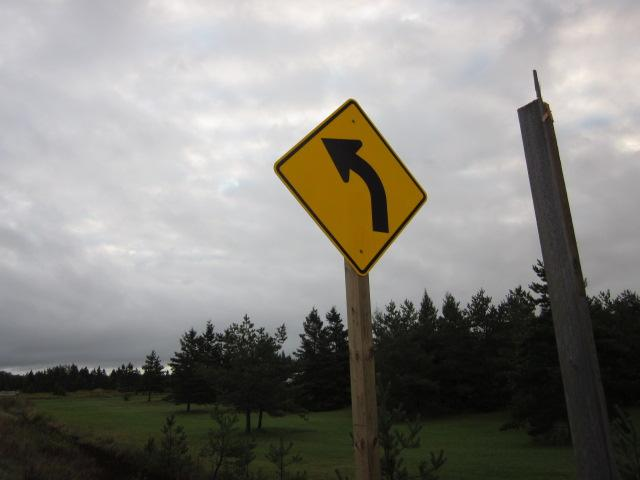warning: (272, 98, 431, 275)
